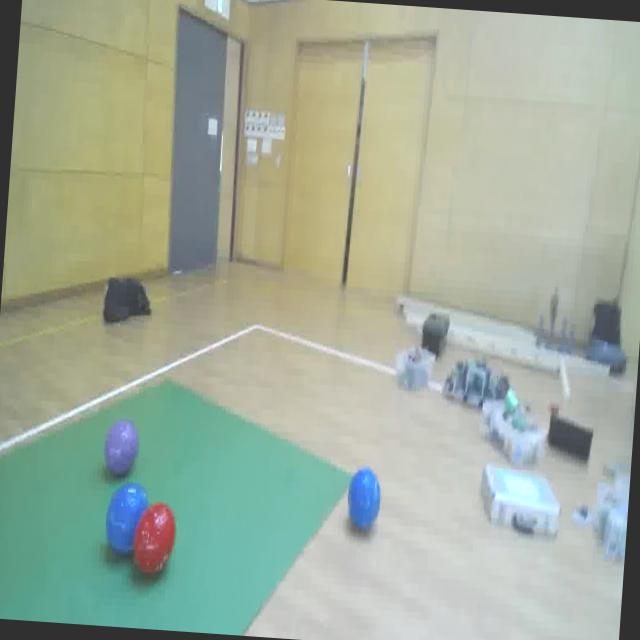blue_ball: (102, 476, 153, 556), (344, 466, 382, 530)
purple_ball: (102, 412, 142, 482)
red_ball: (128, 498, 180, 581)
